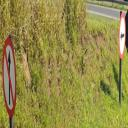NoSeguir: (3, 35, 17, 118)
